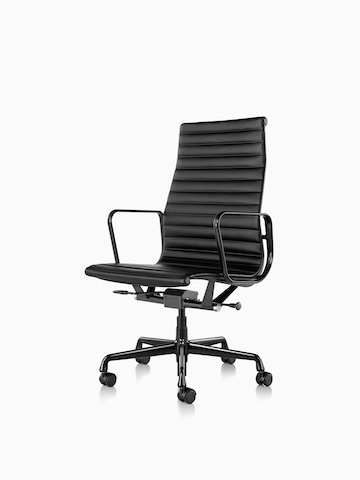chairs: (82, 117, 283, 408)
